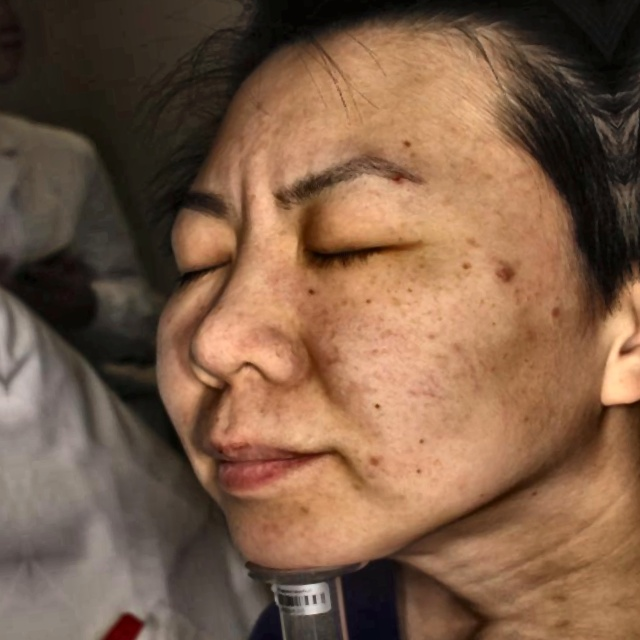comedone: (486, 262, 519, 293)
